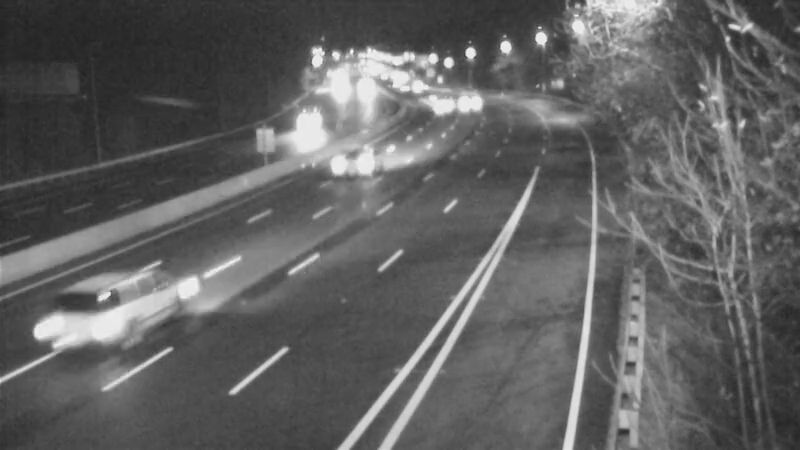vehicle: (27, 268, 137, 378), (325, 119, 405, 199), (445, 80, 495, 130), (417, 77, 467, 127), (295, 96, 345, 146)
